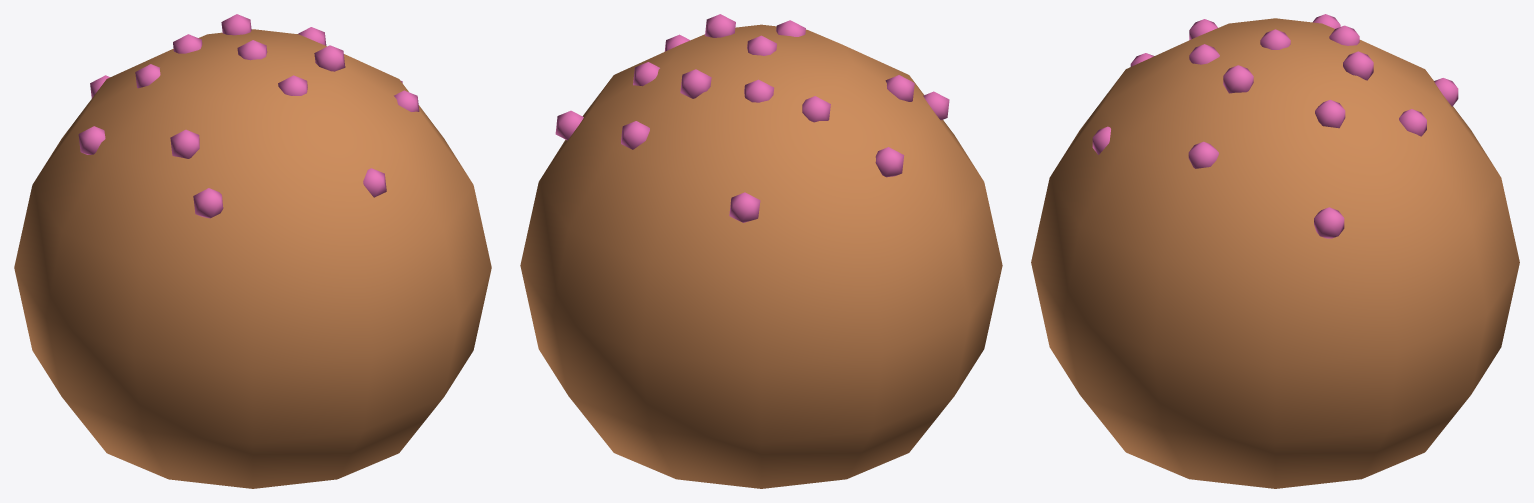
The model's file is bonbons-bush-3.glb.
3 views of the same model, side by side, from view 1: azimuth 30°, elevation 25°; view 2: azimuth 150°, elevation 25°; view 3: azimuth 270°, elevation 25° (orthographic). The views are drawn at different scales.
Parts seen in each view (by area): view 1: bonbon, sprinkles; view 2: bonbon, sprinkles; view 3: bonbon, sprinkles.
Boxes of the visible parts, x1,y1,x2,y2 form: bonbon: (14, 29, 491, 488); sprinkles: (78, 14, 419, 218); bonbon: (520, 24, 1002, 488); sprinkles: (555, 14, 949, 222); bonbon: (1031, 18, 1519, 488); sprinkles: (1092, 14, 1458, 238).
Size of what is drawn, in the model's own units: 1 by 0.9562 by 1.
